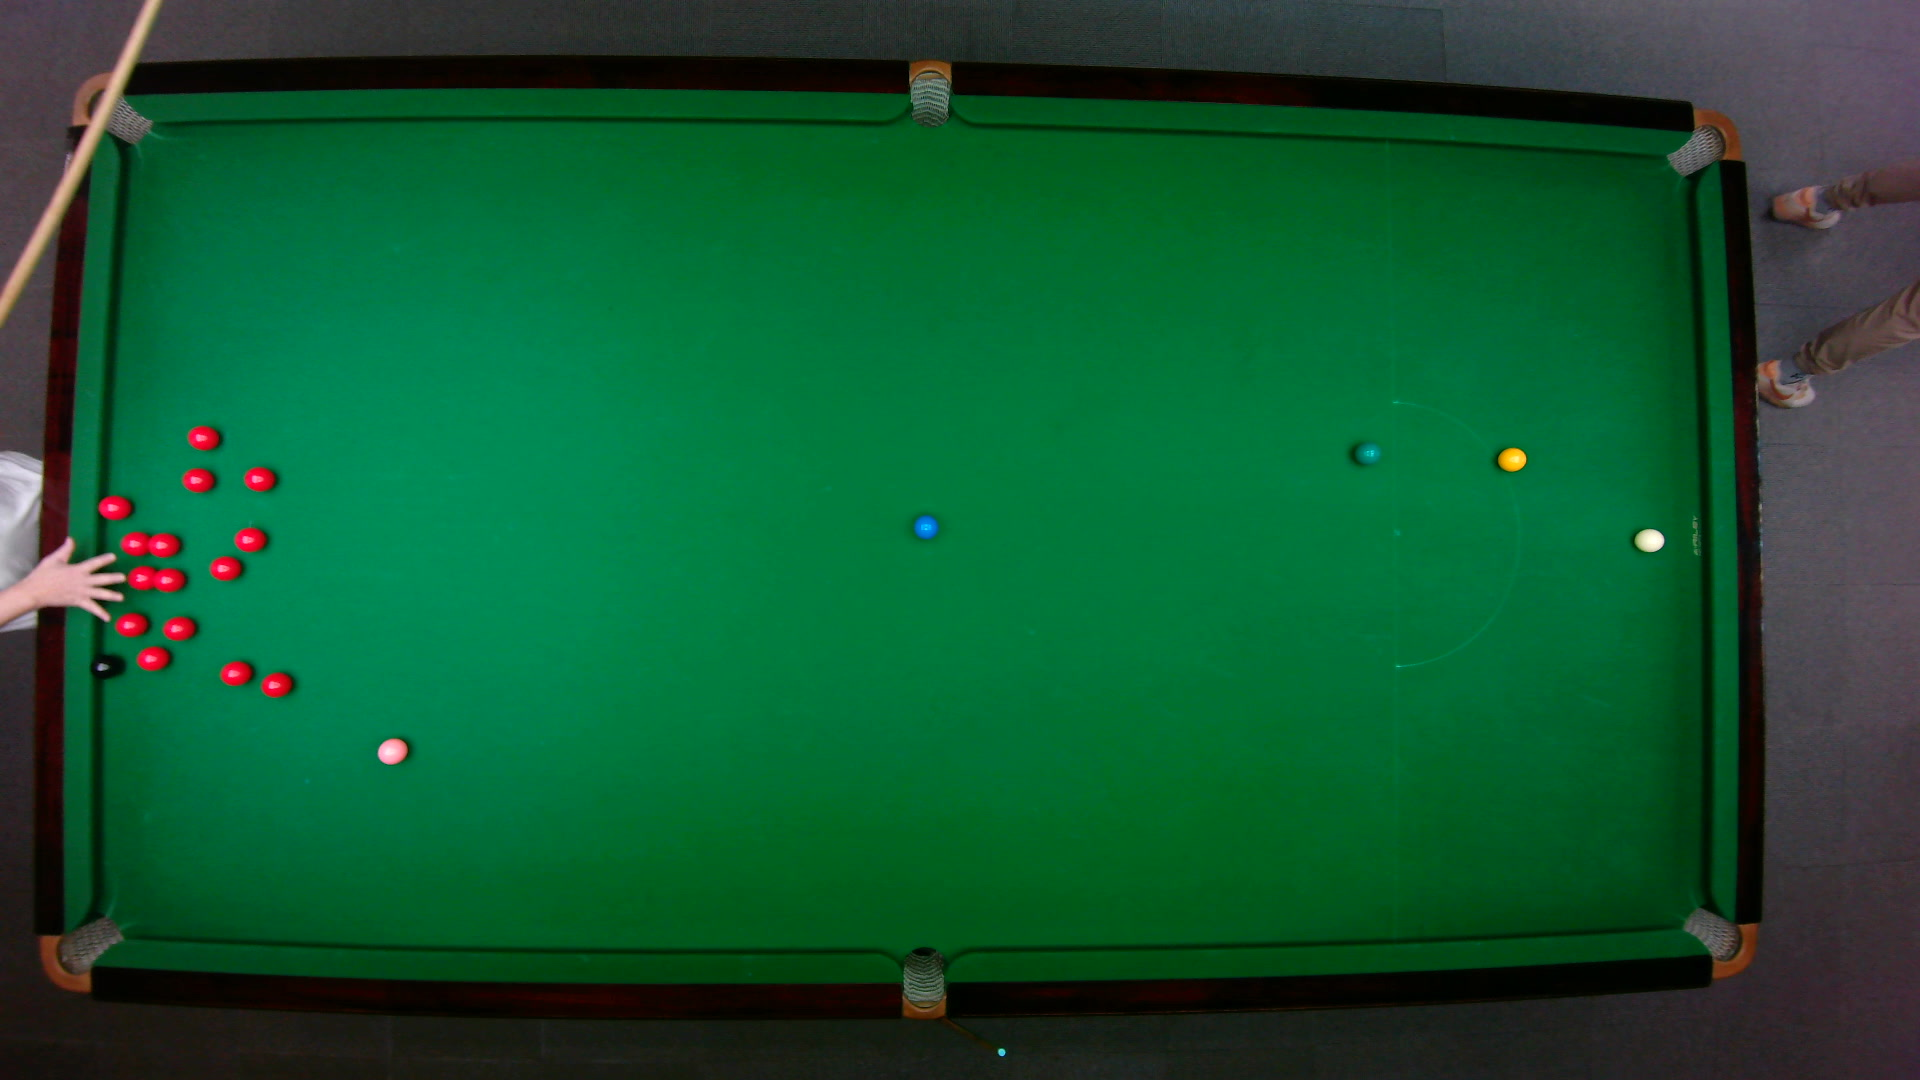bag: (37, 913, 125, 992), (69, 70, 154, 145), (1679, 905, 1756, 978), (1663, 107, 1741, 177), (901, 944, 944, 1021), (909, 57, 949, 128)
black: (88, 655, 119, 678)
blue: (911, 513, 938, 539)
green: (1352, 440, 1383, 465)
pink: (375, 735, 407, 765)
red: (218, 658, 253, 687), (160, 613, 196, 641), (232, 524, 266, 553), (207, 554, 243, 582), (258, 670, 294, 698), (135, 644, 170, 671), (95, 493, 132, 520), (179, 465, 215, 492), (243, 464, 276, 492), (145, 530, 179, 556), (186, 425, 220, 450), (113, 611, 148, 636), (127, 563, 157, 589), (119, 529, 149, 555)
white: (1631, 526, 1665, 553)
yellow: (1495, 444, 1527, 472)
zone: (1390, 400, 1520, 667)
